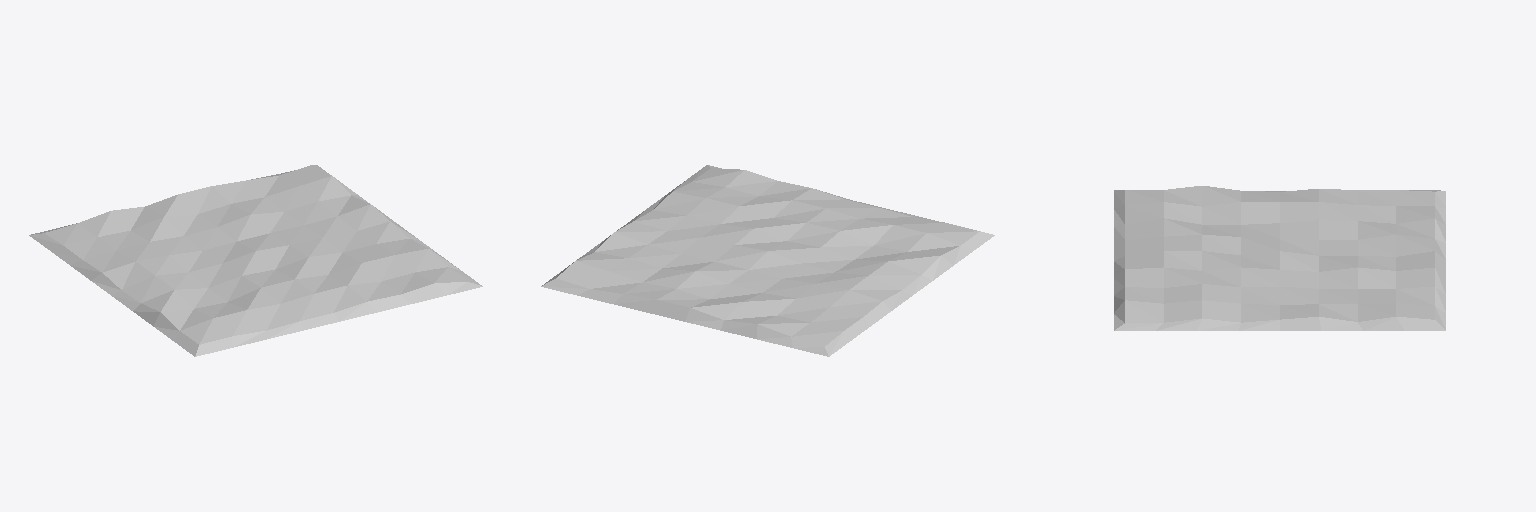
The model's file is dirt_ground.obj.
The picture shows the model from 3 angles: view 1: azimuth 30°, elevation 25°; view 2: azimuth 150°, elevation 25°; view 3: azimuth 270°, elevation 25°; orthographic projection.
Visible parts, largest first — view 1: Plane; view 2: Plane; view 3: Plane.
Part boxes in pixels (bbox=[...]): Plane: bbox=[29, 165, 482, 356]; Plane: bbox=[541, 165, 994, 356]; Plane: bbox=[1114, 186, 1445, 330].
Bounding box in the file's own units: 6.44 × 0.2104 × 6.44.